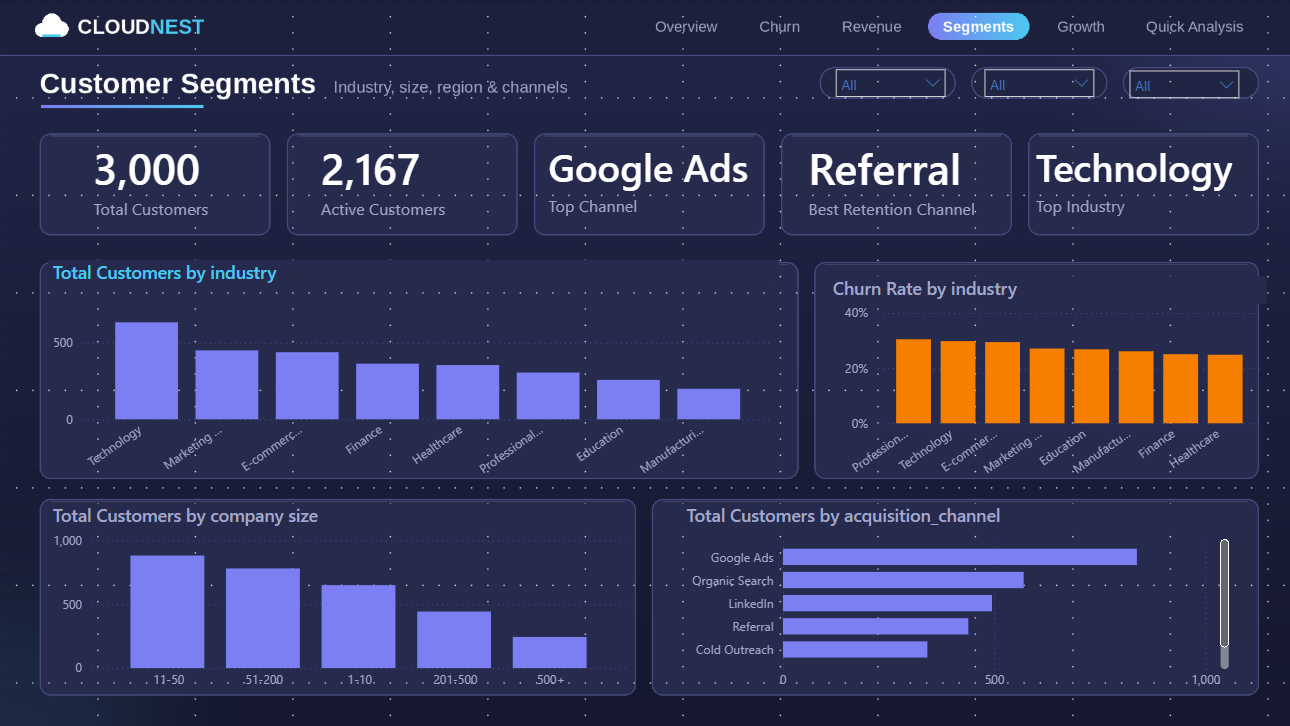

What the dashboard file says about the page in this screenshot:
{"tool":"powerbi","page":{"name":"Customer Segments","canvas":[1280,720],"ordinal":4},"visuals":[{"type":"slicer","fields":{"Values":["customers.region"]},"box":[814,58,128,64],"z":0},{"type":"slicer","fields":{"Values":["customers.industry"]},"box":[960,58,128,64],"z":1000},{"type":"slicer","fields":{"Values":["subscriptions.billing_cycle"]},"box":[1103,59,128,63],"z":2000},{"type":"cardVisual","fields":{"Data":["_Measures.Total Customers"]},"box":[64,112,208,128],"z":3000},{"type":"cardVisual","fields":{"Data":["_Measures.Top Channel"]},"box":[512,112,256,128],"z":4000},{"type":"cardVisual","fields":{"Data":["_Measures.Best Retention Channel"]},"box":[768,112,240,128],"z":5000},{"type":"cardVisual","fields":{"Data":["_Measures.Top Industry"]},"box":[992,112,256,128],"z":6000},{"type":"cardVisual","fields":{"Data":["_Measures.Active Customers"]},"box":[288,112,208,128],"z":7000},{"type":"columnChart","fields":{"Y":["_Measures.Total Customers"],"Category":["customers.industry"]},"box":[48,256,720,224],"z":8000},{"type":"columnChart","title":"Churn Rate by industry","fields":{"Category":["customers.industry"],"Y":["_Measures.Plan Churn Rate %"]},"box":[816,272,432,208],"z":9000},{"type":"clusteredColumnChart","title":"Total Customers by company size","fields":{"Y":["_Measures.Total Customers"],"Category":["customers.company_size"]},"box":[48,496,576,192],"z":10000},{"type":"clusteredBarChart","fields":{"Category":["customers.acquisition_channel"],"Y":["_Measures.Total Customers"]},"box":[672,496,544,192],"z":11000},{"type":"actionButton","box":[736,11,80,32],"z":12000},{"type":"actionButton","box":[825,12,80,32],"z":13000},{"type":"actionButton","box":[640,16,80,32],"z":14000},{"type":"actionButton","box":[1024,13,80,32],"z":15000},{"type":"actionButton","box":[1130,13,96,32],"z":16000}]}

Visuals, with their boxes in screenshot pixels (x1, y1, x2, y2), scaled from the page's 1280x720 canvas onto the 1290x726 screenshot:
slicer - customers.region: left=820, top=58, right=949, bottom=123
slicer - customers.industry: left=968, top=58, right=1096, bottom=123
slicer - subscriptions.billing_cycle: left=1112, top=59, right=1241, bottom=123
cardVisual - _Measures.Total Customers: left=64, top=113, right=274, bottom=242
cardVisual - _Measures.Top Channel: left=516, top=113, right=774, bottom=242
cardVisual - _Measures.Best Retention Channel: left=774, top=113, right=1016, bottom=242
cardVisual - _Measures.Top Industry: left=1000, top=113, right=1258, bottom=242
cardVisual - _Measures.Active Customers: left=290, top=113, right=500, bottom=242
columnChart - _Measures.Total Customers x customers.industry: left=48, top=258, right=774, bottom=484
"Churn Rate by industry" columnChart: left=822, top=274, right=1258, bottom=484
"Total Customers by company size" clusteredColumnChart: left=48, top=500, right=629, bottom=694
clusteredBarChart - customers.acquisition_channel x _Measures.Total Customers: left=677, top=500, right=1226, bottom=694
actionButton: left=742, top=11, right=822, bottom=43
actionButton: left=831, top=12, right=912, bottom=44
actionButton: left=645, top=16, right=726, bottom=48
actionButton: left=1032, top=13, right=1113, bottom=45
actionButton: left=1139, top=13, right=1236, bottom=45
